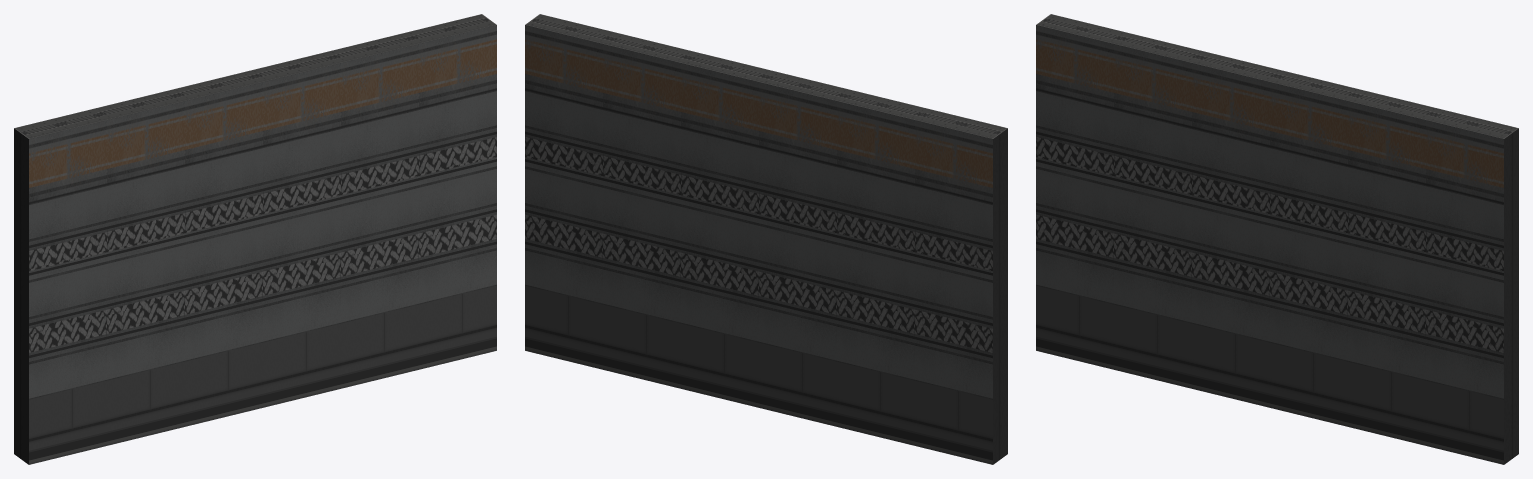
The model's file is ArenaGroundInterWall.fbx.
3 renders of one model, left to right at view 1: azimuth 30°, elevation 25°; view 2: azimuth 150°, elevation 25°; view 3: azimuth 330°, elevation 25°, orthographic.
Visible parts, largest first — view 1: Cube__16_, Cube__16_.001; view 2: Cube__16_, Cube__16_.001; view 3: Cube__16_, Cube__16_.001.
Part boxes in pixels (box(x1,y1,x2,y2)): Cube__16_: box(14, 32, 496, 464); Cube__16_.001: box(14, 14, 496, 145); Cube__16_: box(525, 32, 1007, 464); Cube__16_.001: box(525, 14, 1007, 145); Cube__16_: box(1036, 32, 1518, 464); Cube__16_.001: box(1036, 14, 1518, 145).
Bounding box in the file's own units: 680 × 453 × 37.49.
